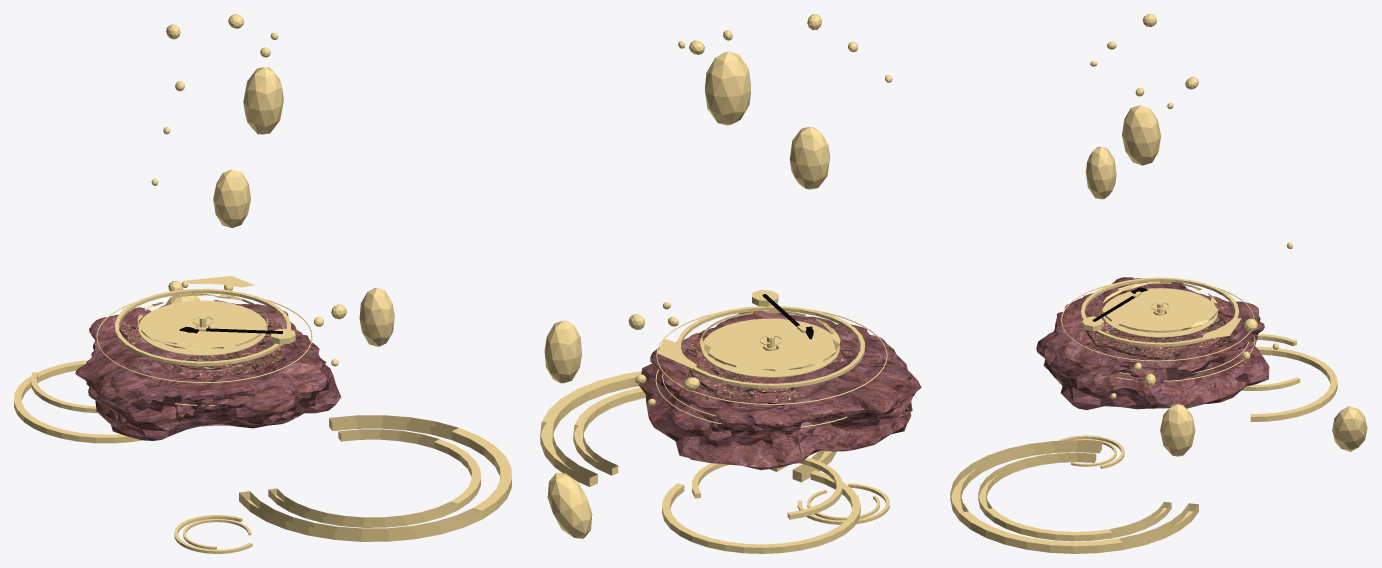
File: vinyl.glb
3 renders of one model, left to right at view 1: azimuth 30°, elevation 25°; view 2: azimuth 150°, elevation 25°; view 3: azimuth 270°, elevation 25°, orthographic. The views are drawn at different scales.
Visible parts, largest first — view 1: Cube, Cylinder.008, Circle.002, Cylinder.009, Disk, Icosphere.009, Cylinder.004, Cylinder.005, Icosphere.016, Icosphere, Cube.016, Cylinder.006 (+2 smaller); view 2: Cube, Circle.002, Cylinder.008, Cylinder.005, Disk, Icosphere.009, Cylinder.004, Icosphere.007, Icosphere.016, Icosphere, Cylinder.009, Cube.016 (+3 smaller); view 3: Cube, Cylinder.008, Circle.002, Cylinder.009, Disk, Icosphere.009, Cylinder.005, Cylinder.004, Icosphere, Icosphere.016, Icosphere.007, Cube.016 (+2 smaller).
Part boxes in pixels (x1,y1,x2,y2): Cube: (75,300,341,440); Cylinder.008: (239,415,511,541); Circle.002: (138,300,267,355); Cylinder.009: (268,429,480,527); Disk: (119,316,284,379); Icosphere.009: (243,67,283,134); Cylinder.004: (115,288,290,365); Cylinder.005: (14,360,141,443); Icosphere.016: (213,169,250,228); Icosphere: (359,288,394,346); Cube.016: (137,276,268,349); Cylinder.006: (174,515,252,553); Cube: (638,311,921,469); Circle.002: (701,318,839,377); Cylinder.008: (540,371,836,486); Cylinder.005: (662,470,860,553); Disk: (684,338,854,405); Icosphere.009: (705,51,750,125); Cylinder.004: (677,306,864,388); Icosphere.007: (547,472,592,538); Icosphere.016: (789,127,829,189); Icosphere: (544,320,581,383); Cylinder.009: (573,387,788,475); Cube.016: (657,311,840,371); Cube: (1036,277,1269,410); Cylinder.008: (950,440,1198,553); Circle.002: (1102,288,1217,337); Cylinder.009: (978,452,1171,541); Disk: (1085,302,1233,359); Icosphere.009: (1122,105,1160,165); Cylinder.005: (1250,346,1337,421); Cylinder.004: (1081,277,1239,346); Icosphere: (1160,404,1195,456); Icosphere.016: (1085,146,1116,199); Icosphere.007: (1332,406,1367,451); Cube.016: (1101,281,1241,339).
Size of the model in its own units: 5.62 by 7.1 by 6.16.
28 materials, 27 textured.
